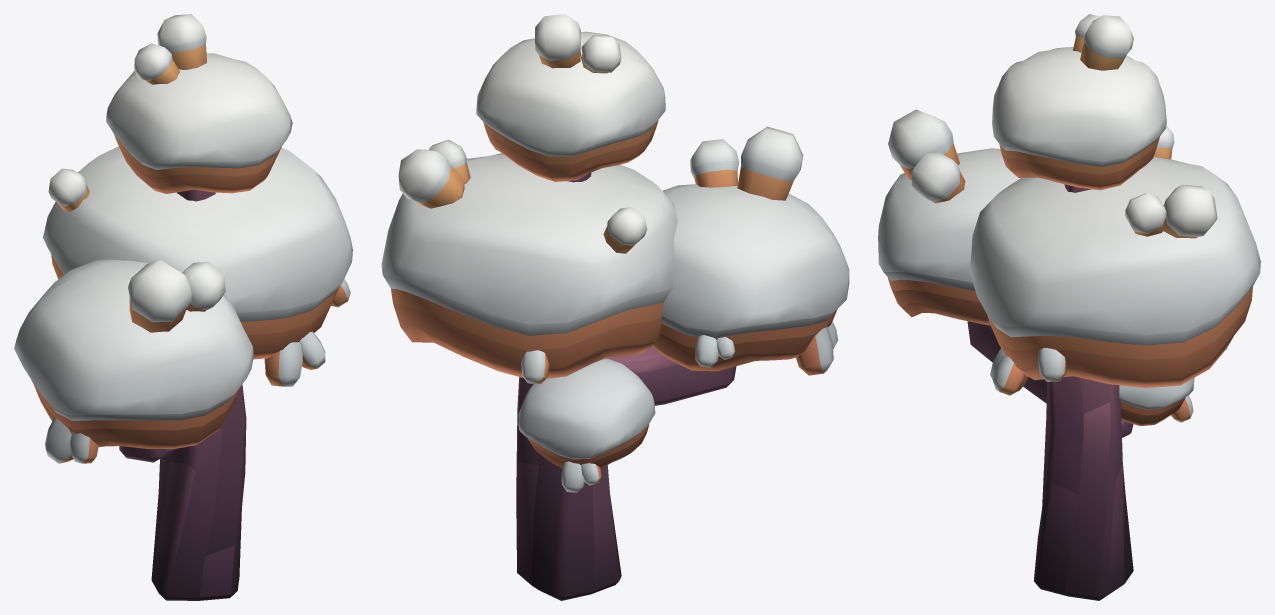
File: grassland_tree_col2_5_snow.fbx
3 views of the same model, side by side, from view 1: azimuth 30°, elevation 25°; view 2: azimuth 150°, elevation 25°; view 3: azimuth 270°, elevation 25° (orthographic). The views are drawn at different scales.
Visible parts, largest first — view 1: grassland_tree_col2_5_snow; view 2: grassland_tree_col2_5_snow; view 3: grassland_tree_col2_5_snow.
Part boxes in pixels (x1,y1,x2,y2): grassland_tree_col2_5_snow: (14,14,352,600); grassland_tree_col2_5_snow: (381,14,849,600); grassland_tree_col2_5_snow: (878,14,1260,600).
Bounding box in the file's own units: 673 × 1035 × 635.
